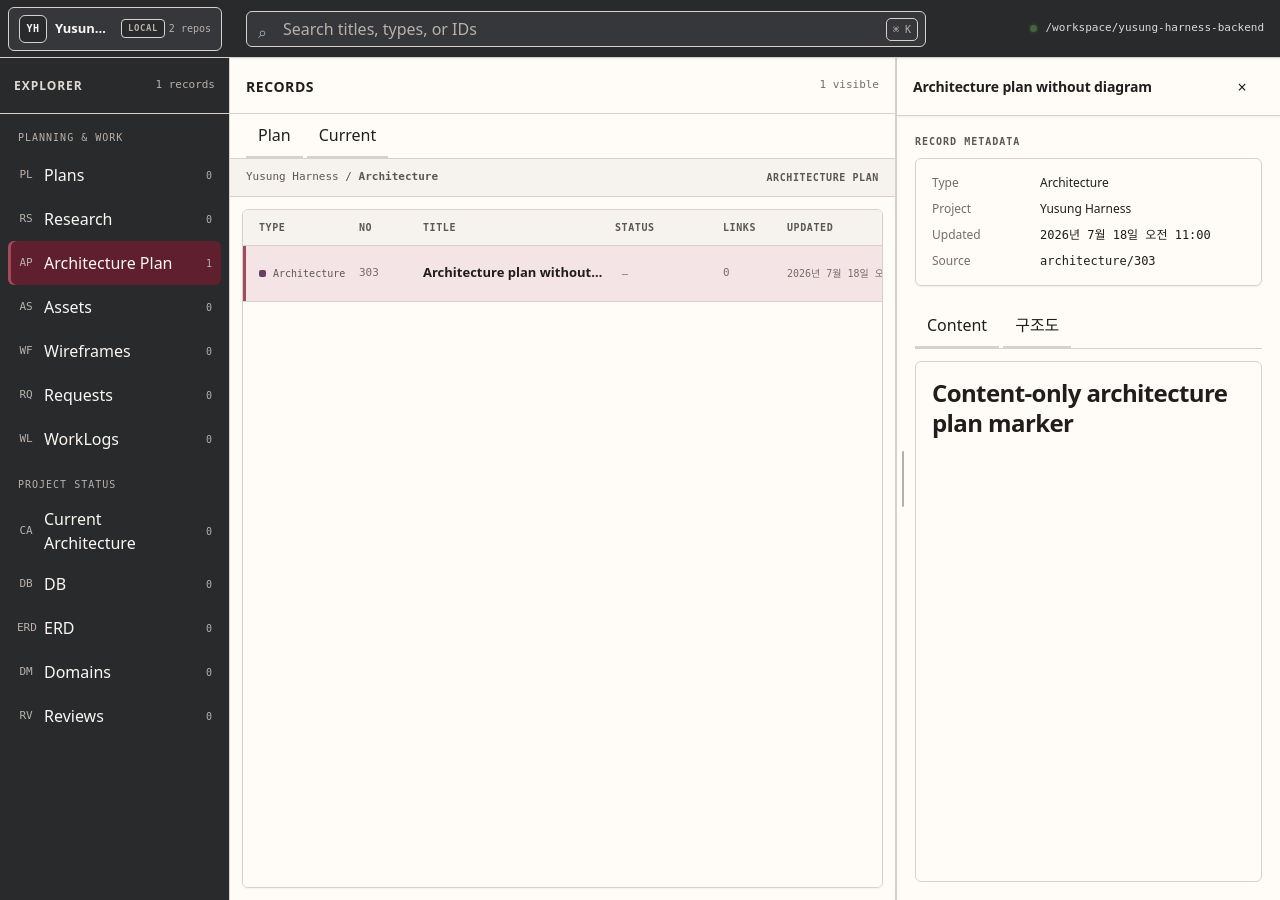
Test: Architecture Plan diagram tab › html 칼럼이 비어도 구조도 탭을 유지하고 content로 대체하지 않는다
The image size is (1280, 900).
Expected: the heading "Content-only architecture plan marker" is shown, top-left (932, 378), bottom-right (1245, 438)
Step 1. Click the tab "구조도" → (1037, 326), box top-left (1003, 304), bottom-right (1071, 348)
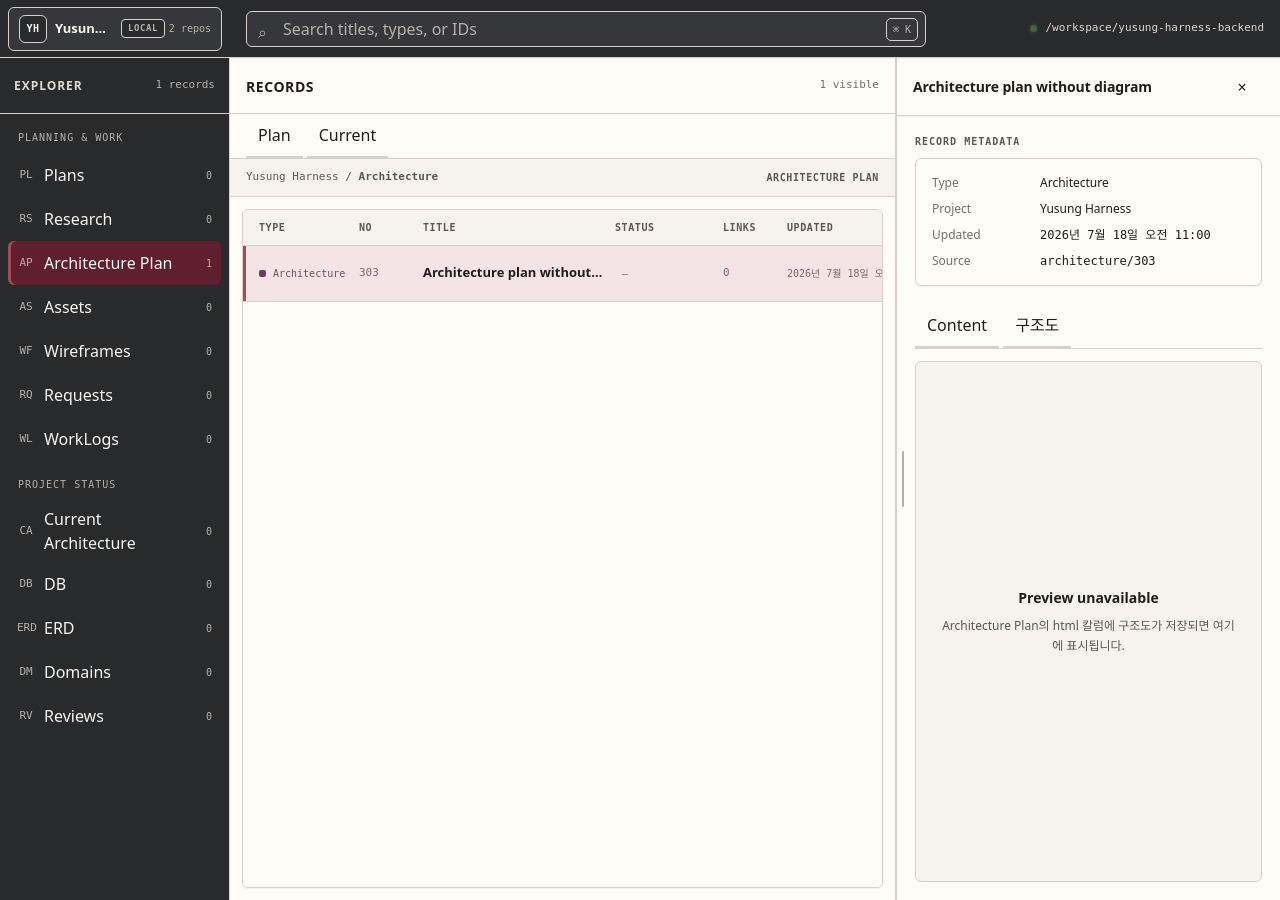
Now the text "Preview unavailable" is shown, box top-left (1018, 588), bottom-right (1159, 606)
